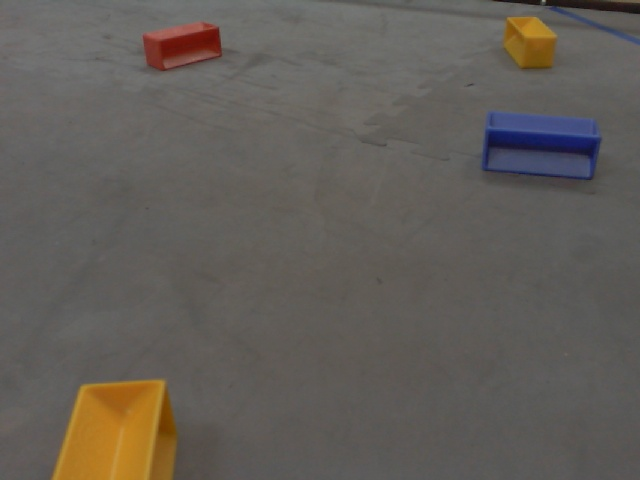BlueSample: (478, 109, 604, 186)
RedSample: (139, 19, 225, 71)
YellowSample: (50, 369, 185, 480), (499, 12, 560, 74)
